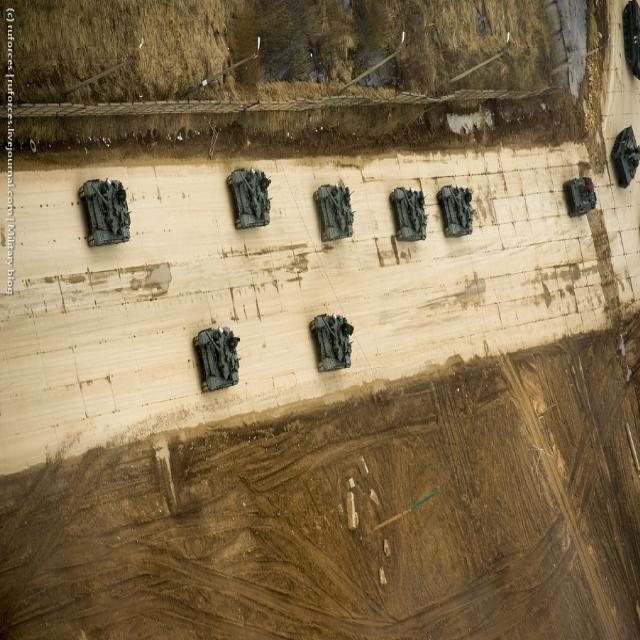tank: (77, 176, 134, 247), (191, 323, 243, 399), (224, 161, 274, 230), (308, 311, 356, 375), (312, 181, 356, 245), (388, 182, 429, 243), (438, 184, 477, 242), (562, 173, 600, 218)
